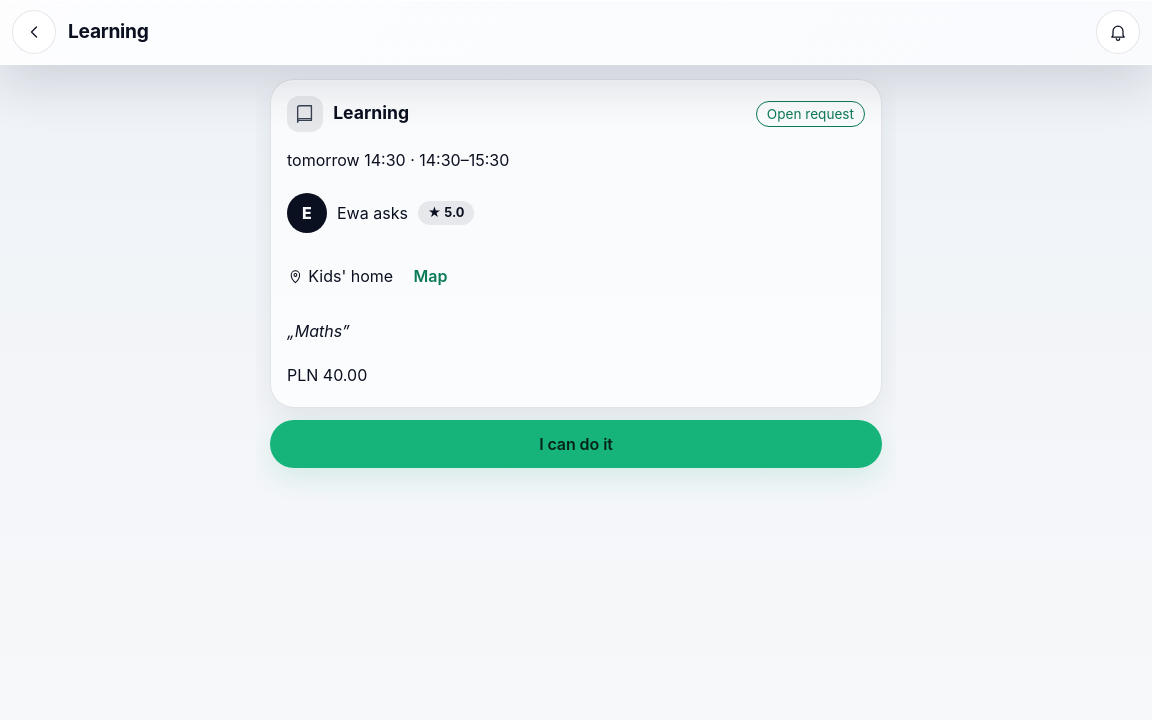
Test: 2.1 C3: someone's open request and the take sheet (FR-163) › shows what they need without any action of a party, then takes it and books a ride there — in that order
Expected: the text with test id "appt-status" reads "Open request", [767,106,854,122]
Expected: the element with test id "appt-party" shows "Ewa asks", [337,203,408,223]
Click the button with test id "appt-take".
click(576, 444)  # box [270,420,882,468]
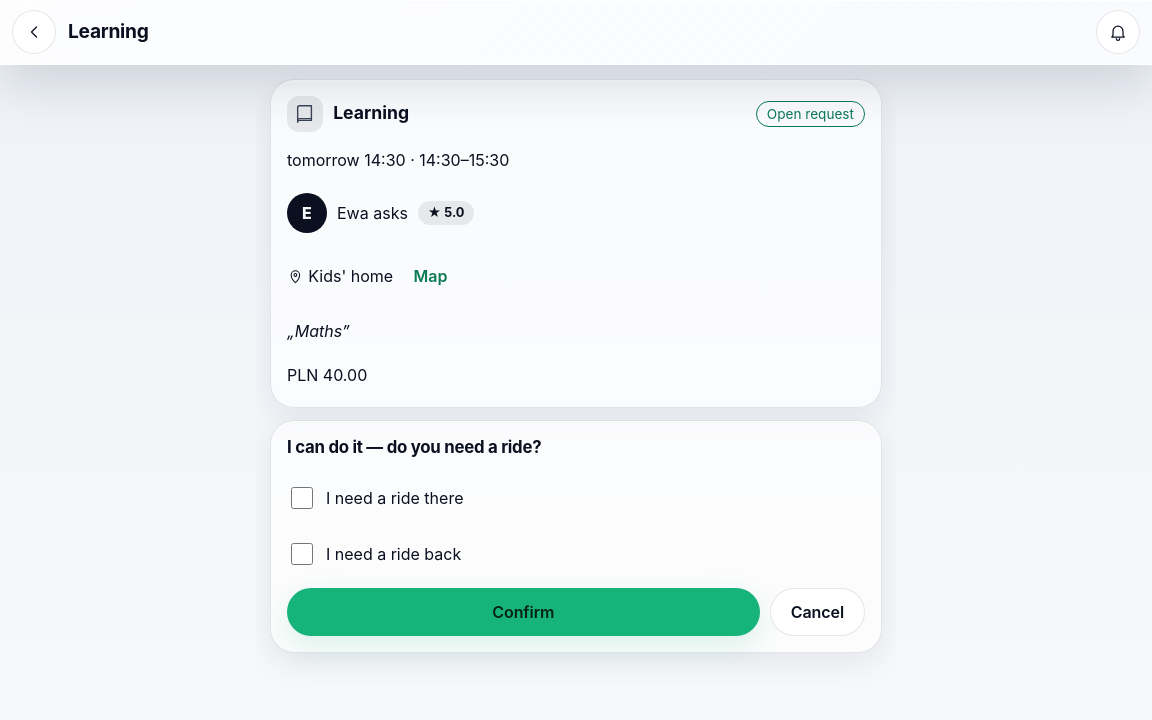
Expected: the element with test id "take-sheet" shows "I can do it — do you need a ride?", [287,437,541,457]
Click the checkbox with test id "need-ride-there".
click(302, 498)  # box [291,487,313,509]
(page scrolled)
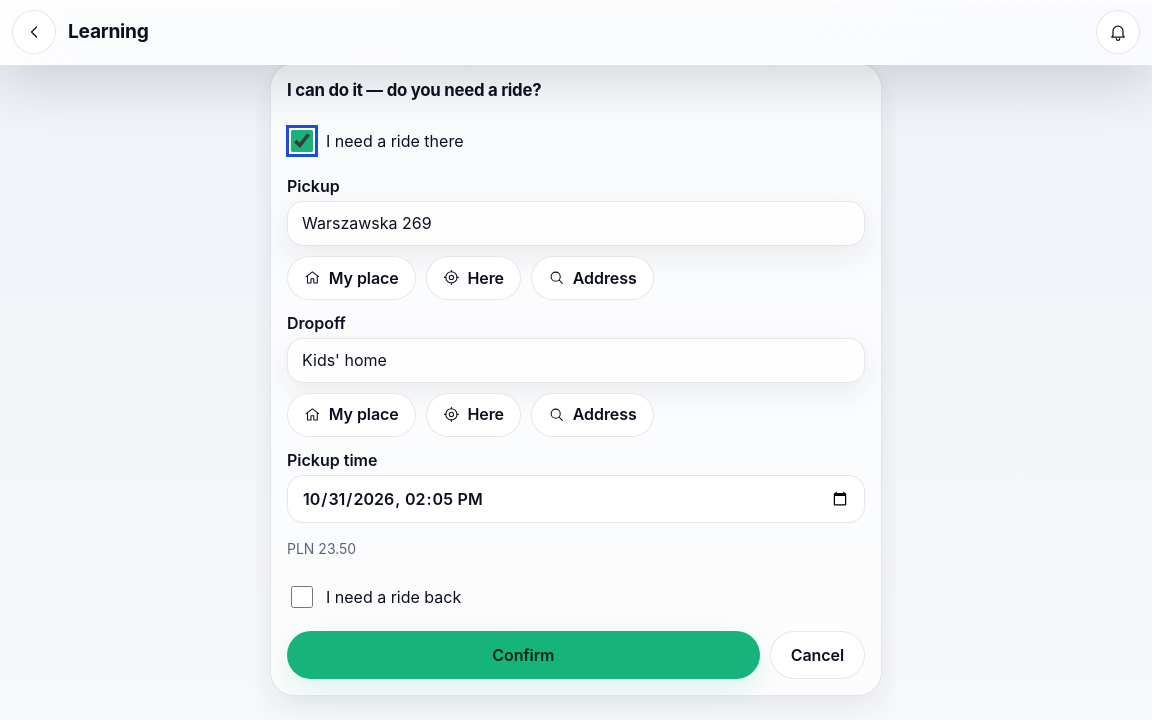
Expected: the text with test id "ride-there-dropoff-value" reads "Kids' home", [302,350,387,370]
Expected: the button with test id "take-confirm" is enabled
Expected: the text with test id "ride-there-pickup-value" reads "Warszawska 269", [302,213,432,233]
Click the button with test id "take-confirm".
click(523, 655)  # box [287,631,760,679]
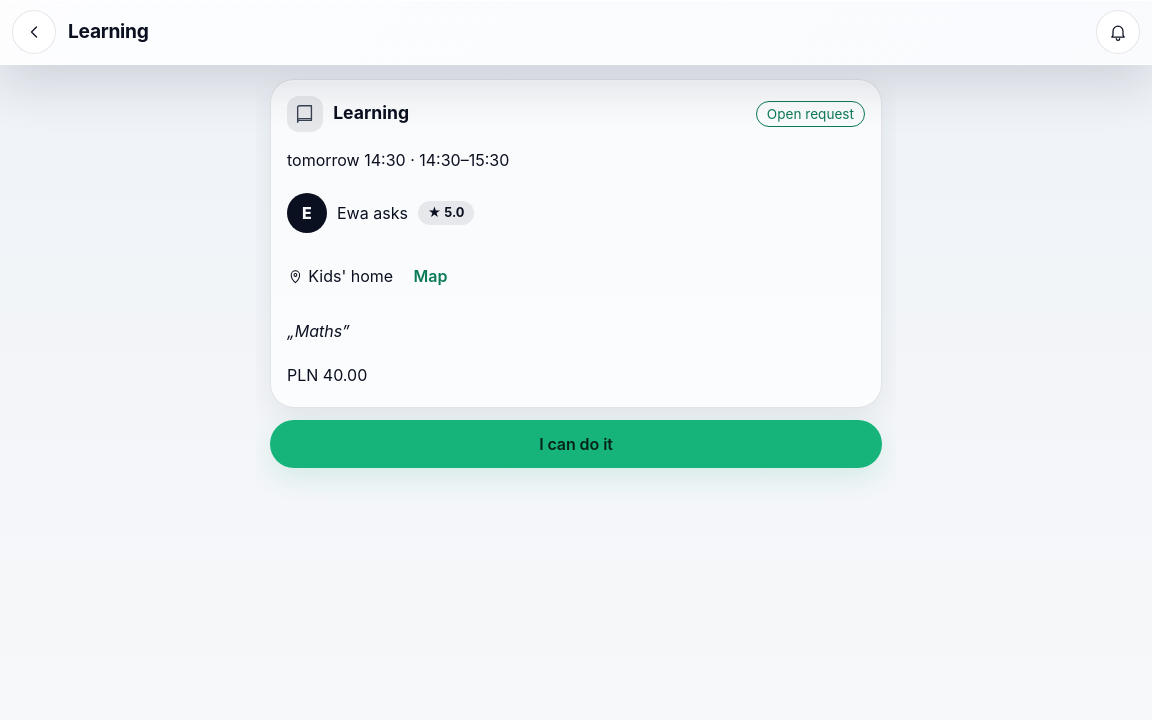
Expected: the element with test id "take-sheet" is gone
